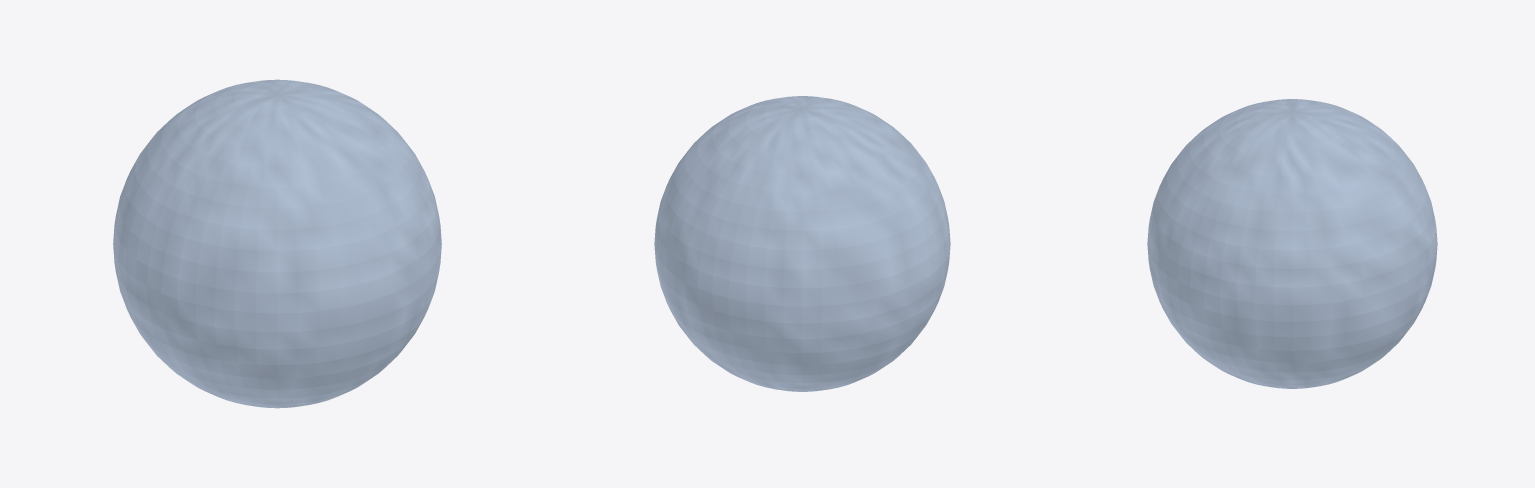
File: star-denebola.glb
3 views of the same model, side by side, from view 1: azimuth 30°, elevation 25°; view 2: azimuth 150°, elevation 25°; view 3: azimuth 270°, elevation 25° (orthographic). The views are drawn at different scales.
Bounding box in the file's own units: 3.19 × 3.18 × 3.15.
